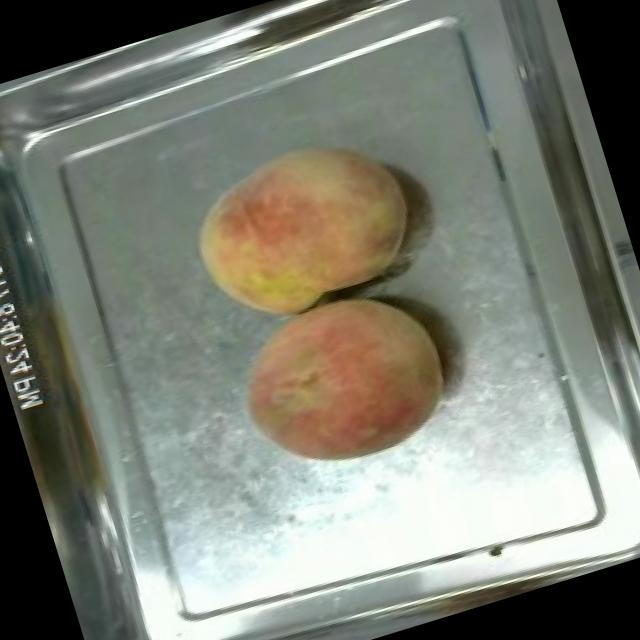Fruit: (165, 113, 431, 342), (216, 267, 469, 495)
